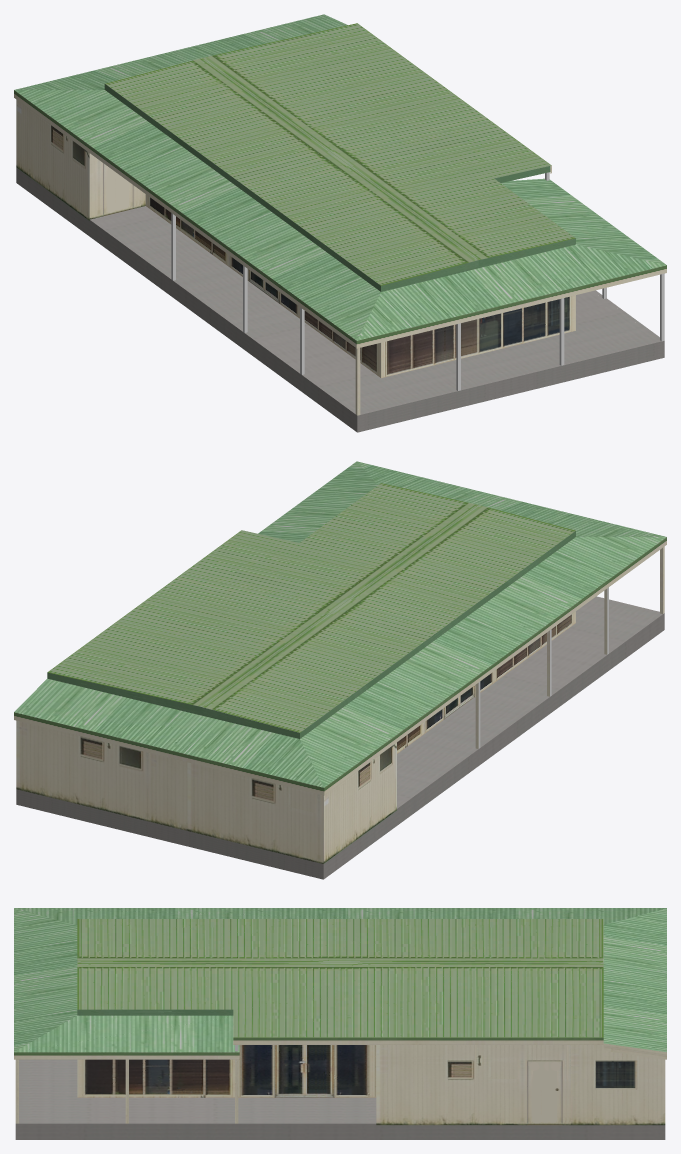
File: terminal-small-05-20x10-cbj_LOD00.gltf
3 views of the same model, one above another, from view 1: azimuth 30°, elevation 25°; view 2: azimuth 150°, elevation 25°; view 3: azimuth 270°, elevation 25° (orthographic). The views are drawn at different scales.
Visible parts, largest first — view 1: Sketchup; view 2: Sketchup; view 3: Sketchup.
Boxes of the visible parts, x1,y1,x2,y2 form: Sketchup: (14, 14, 666, 432); Sketchup: (14, 461, 666, 879); Sketchup: (14, 908, 666, 1139).
Size of the model in its own units: 10.5 by 3.6 by 20.1.
